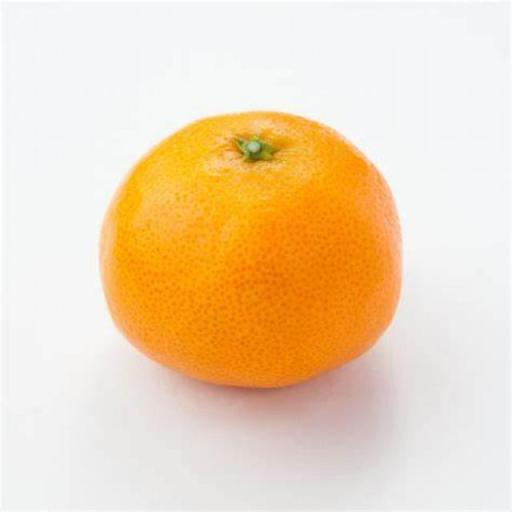fruit: (101, 112, 400, 387)
